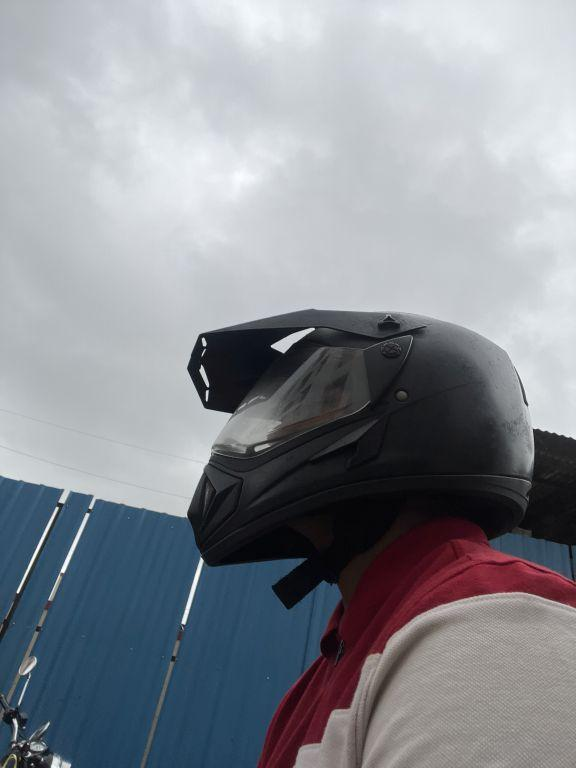helmet: (174, 299, 554, 570)
